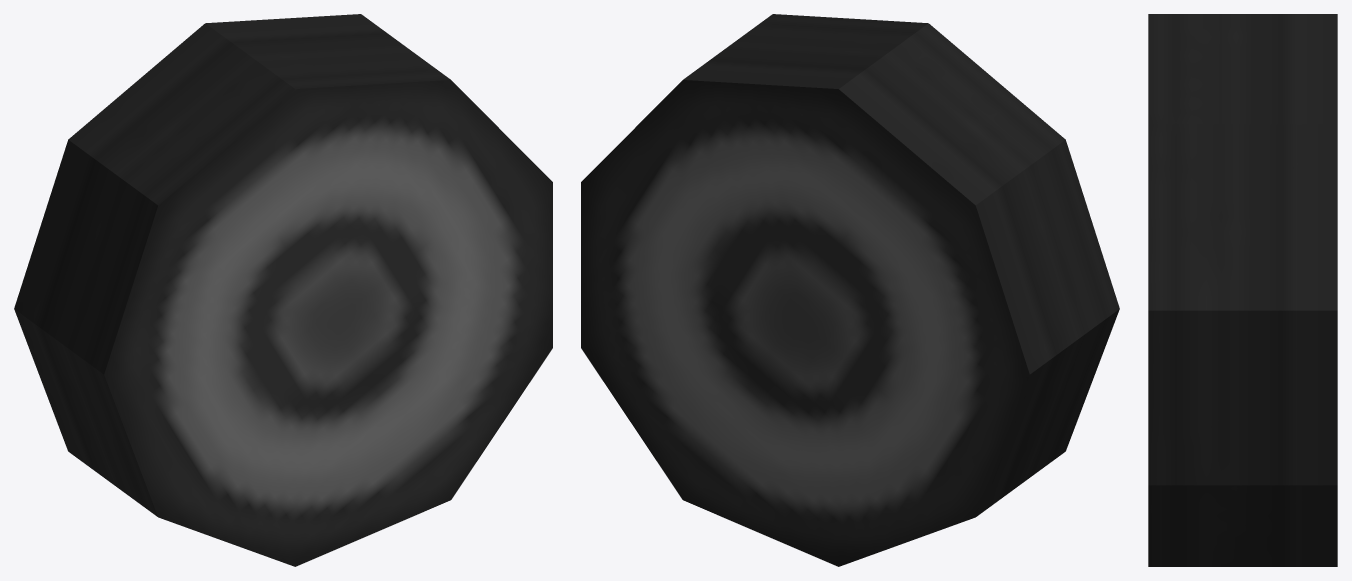
File: co_Wheel.fbx
3 renders of one model, left to right at view 1: azimuth 30°, elevation 25°; view 2: azimuth 150°, elevation 25°; view 3: azimuth 270°, elevation 25°, orthographic. The views are drawn at different scales.
Visible parts, largest first — view 1: Wheel; view 2: Wheel; view 3: Wheel.
Part boxes in pixels (bbox=[...]): Wheel: bbox=[14, 14, 552, 566]; Wheel: bbox=[581, 14, 1119, 566]; Wheel: bbox=[1148, 14, 1337, 566].
Size of the model in its own units: 112 by 114 by 38.92.
